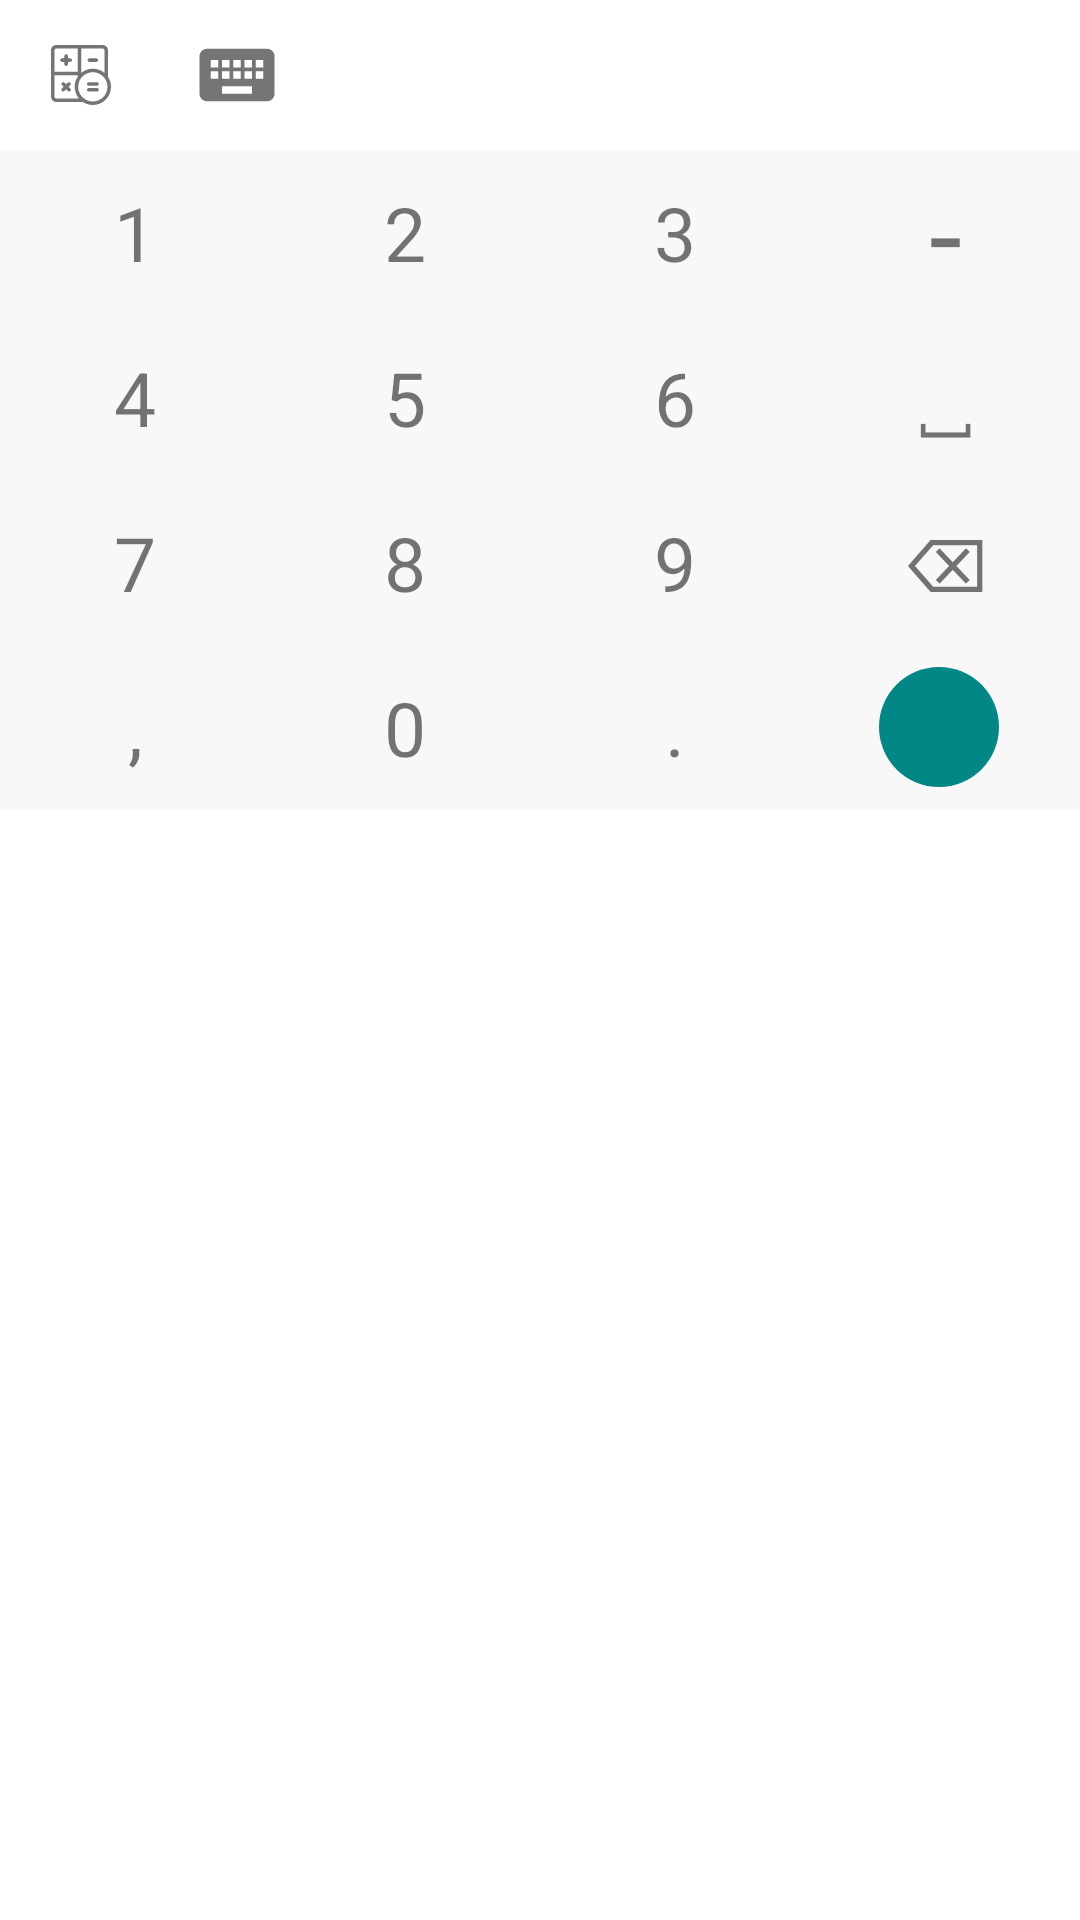

Named icons in this screenshot (1080px×1920px) and their centers, point (x, y):
calculator: point (81, 75)
keyboard: point (237, 75)
